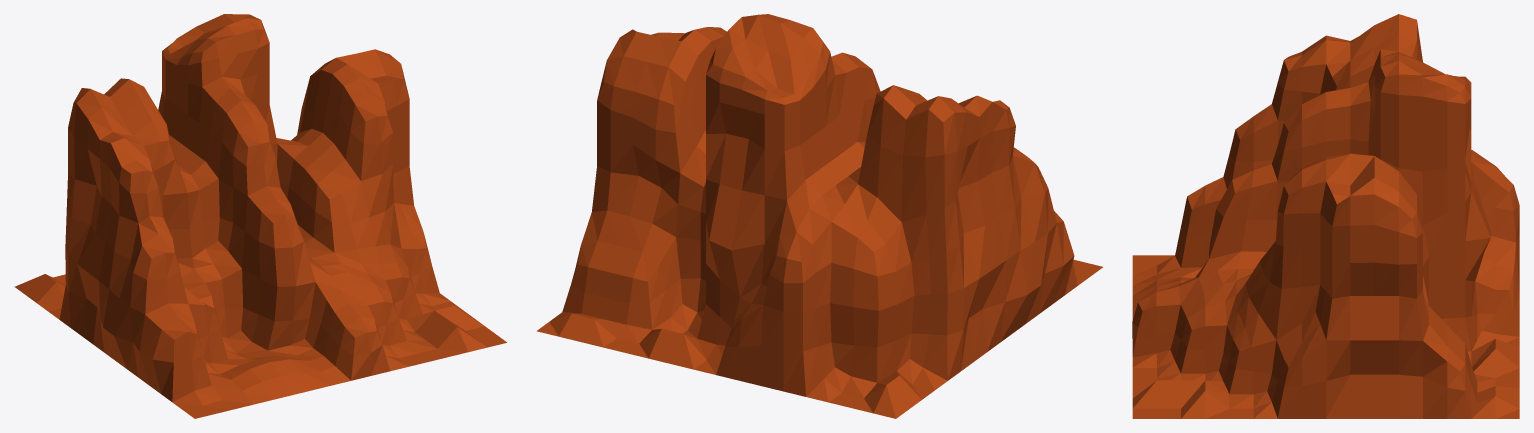
The model's file is Mountain_desert_003.glb.
3 views of the same model, side by side, from view 1: azimuth 30°, elevation 25°; view 2: azimuth 150°, elevation 25°; view 3: azimuth 270°, elevation 25° (orthographic). The views are drawn at different scales.
Parts seen in each view (by area): view 1: Mountain_desert_003; view 2: Mountain_desert_003; view 3: Mountain_desert_003.
Boxes of the visible parts, x1,y1,x2,y2 form: Mountain_desert_003: [14, 14, 506, 418]; Mountain_desert_003: [536, 14, 1102, 418]; Mountain_desert_003: [1132, 14, 1519, 418].
Bounding box in the file's own units: 23.96 × 18.78 × 23.03.
